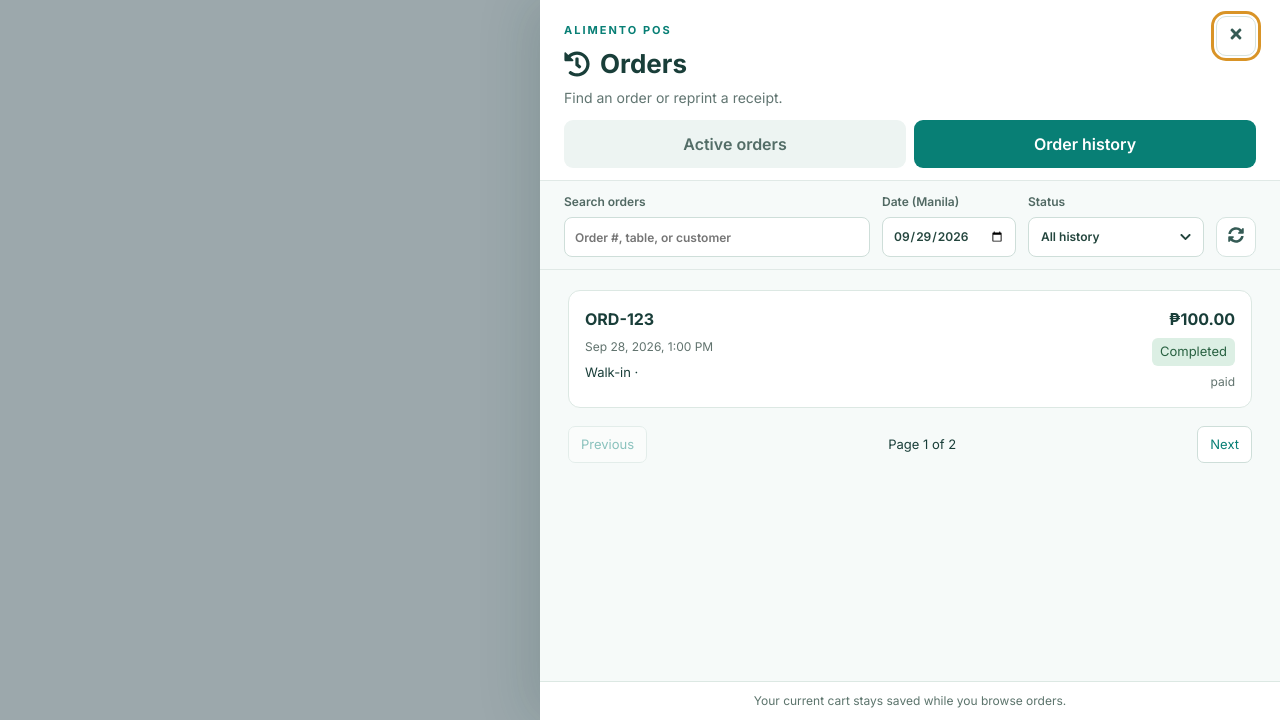
Test case: status menu supports keyboard navigation and resets pagination when filtering
expect the text "ORD-123" is shown: met, box [585,309,654,329]
Click the button "Next": (1225, 444) [1197,426,1252,463]
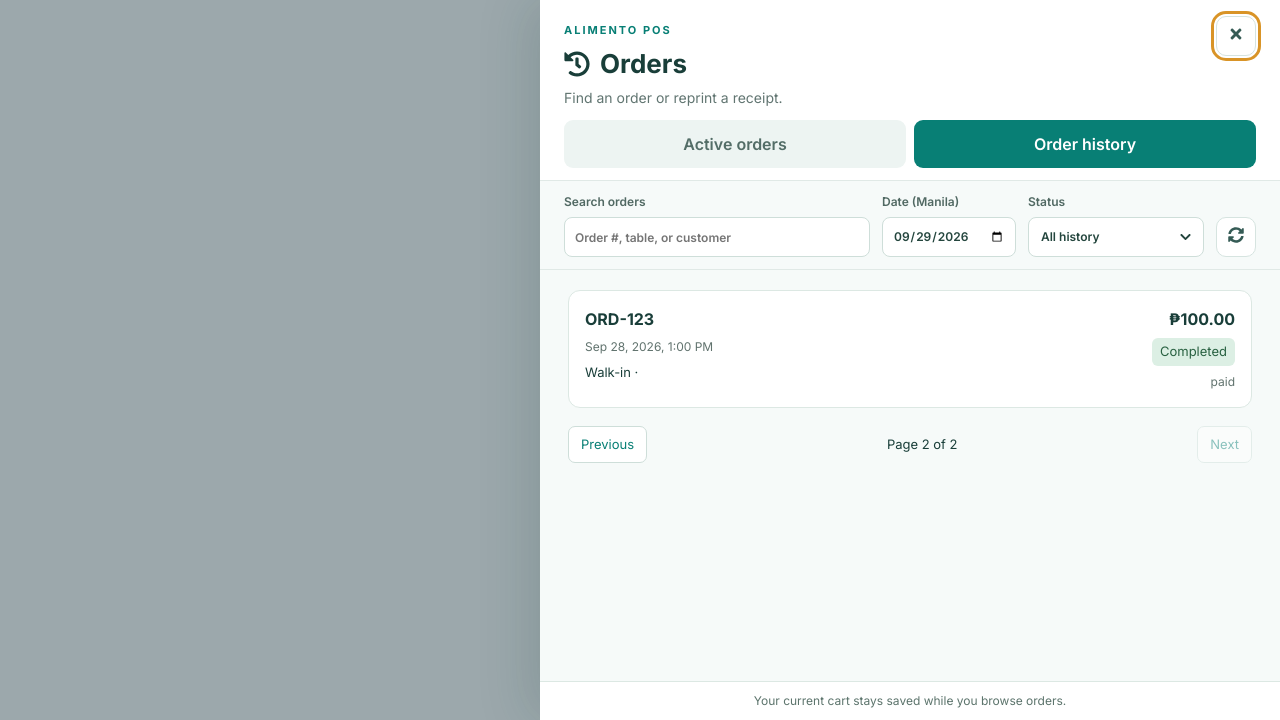
Press ArrowDown in the button named "Status All history", box [1028,217,1204,257]
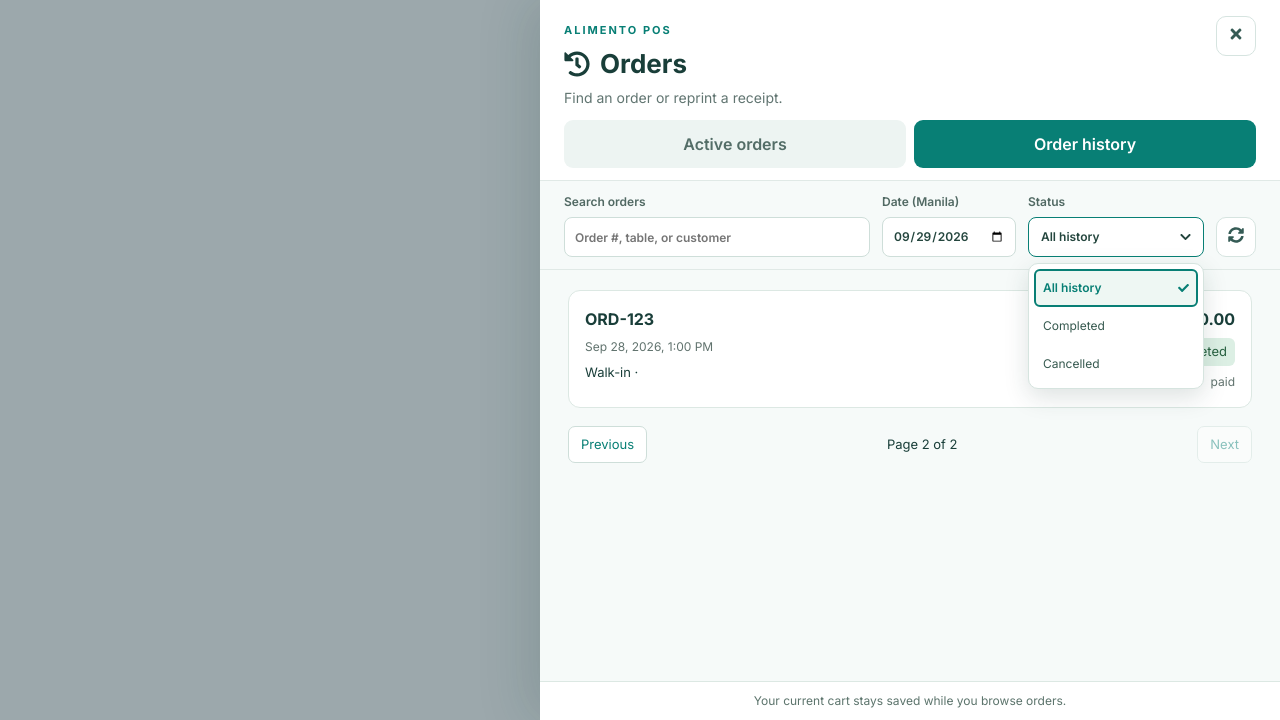
Press ArrowDown in the option "All history", box [1034,269,1198,307]
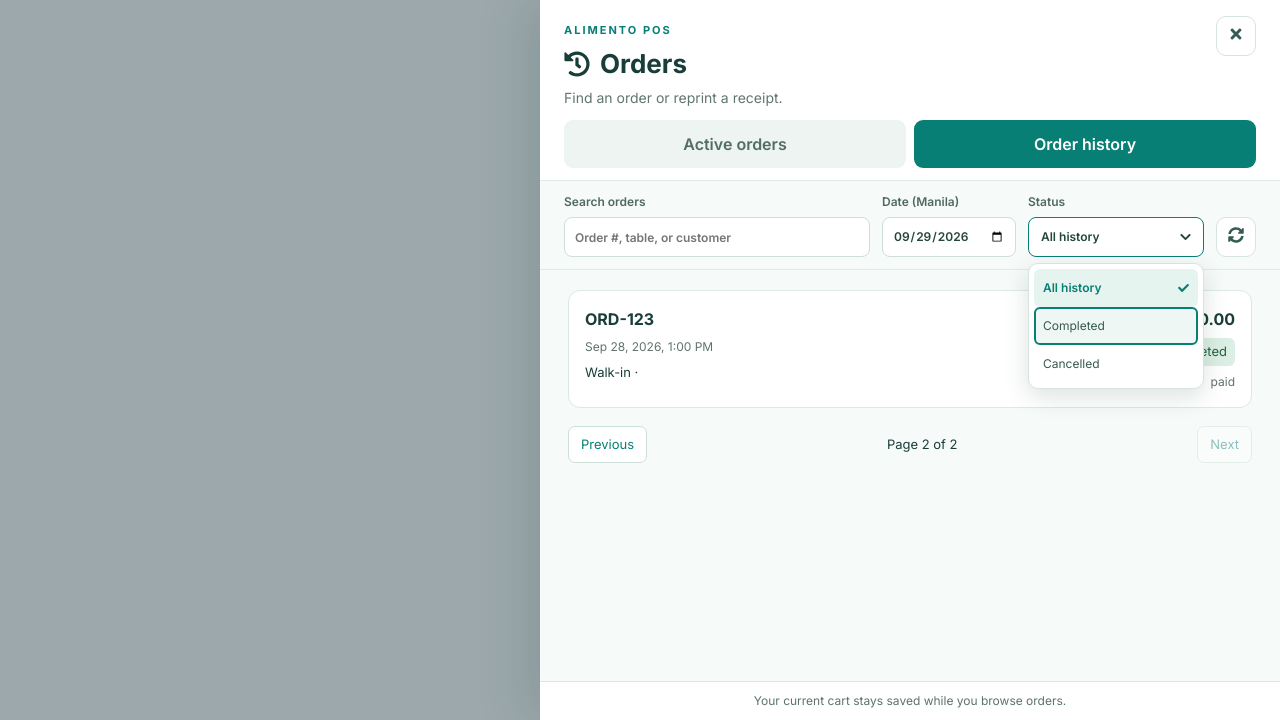
Click the option "Completed": (1116, 326) [1034,307,1198,345]
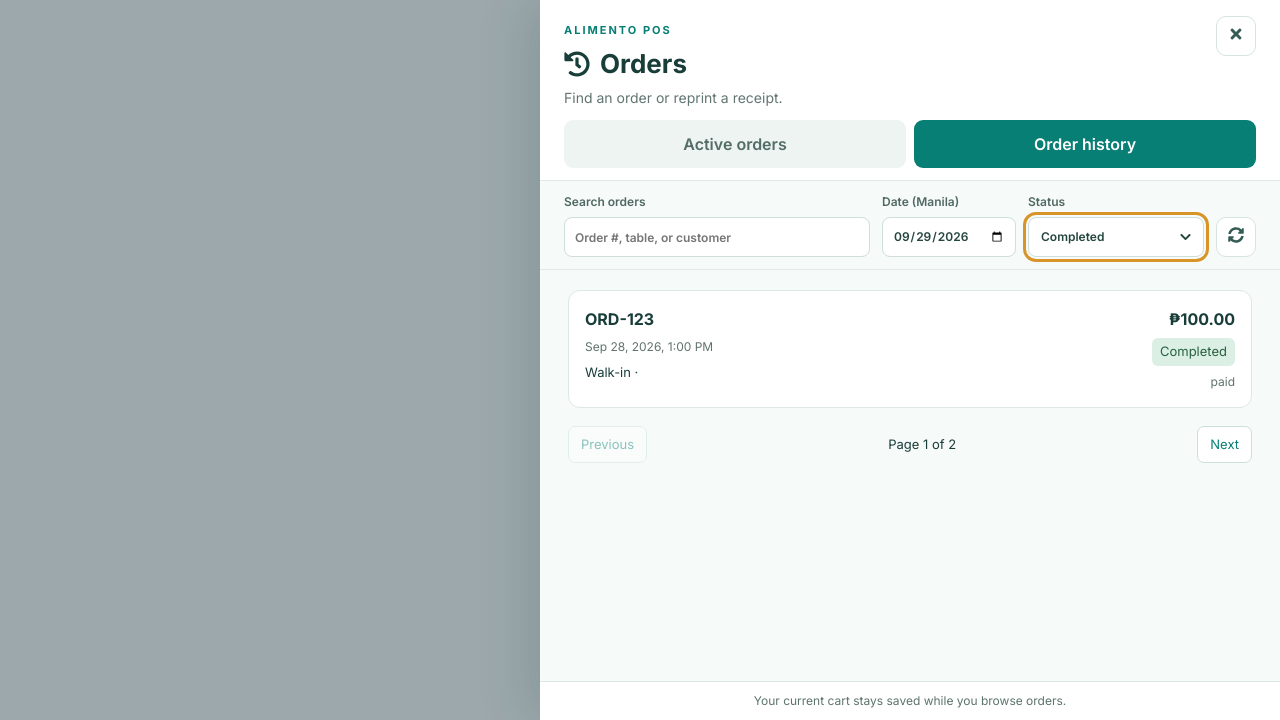
expect the list is gone: met
